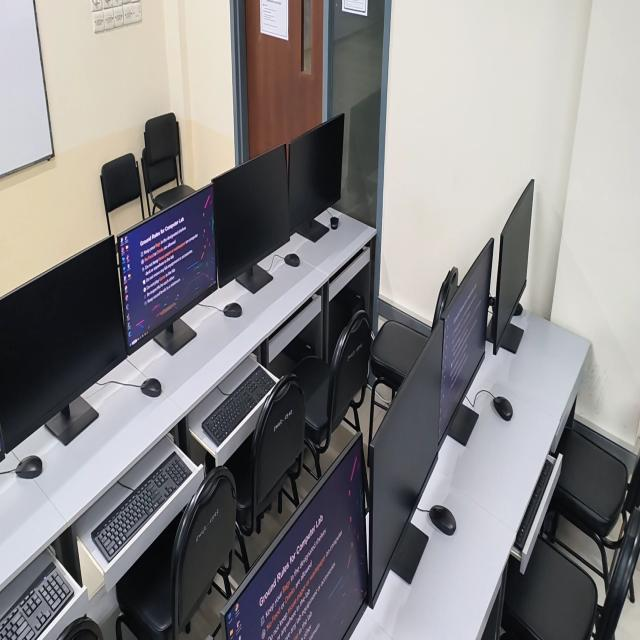Chair: (116, 466, 236, 639), (501, 508, 640, 639), (550, 429, 640, 589), (291, 310, 372, 478), (225, 374, 305, 536), (141, 113, 193, 213), (371, 317, 428, 389), (101, 153, 141, 233), (429, 264, 461, 333), (60, 615, 103, 639)
Cpu: (283, 333, 313, 366), (335, 285, 365, 317)
Keyboard: (91, 453, 191, 561), (202, 366, 275, 446), (0, 562, 74, 639), (514, 459, 554, 553)
Monitor: (222, 433, 367, 639), (0, 237, 127, 460), (368, 322, 442, 607), (117, 184, 217, 355), (213, 145, 291, 292), (441, 240, 493, 446), (491, 180, 534, 354), (288, 114, 344, 241)
Mouse: (428, 505, 456, 535), (15, 455, 42, 479), (493, 396, 513, 421), (140, 378, 162, 397), (223, 303, 242, 317), (284, 254, 300, 267), (330, 216, 338, 228)
